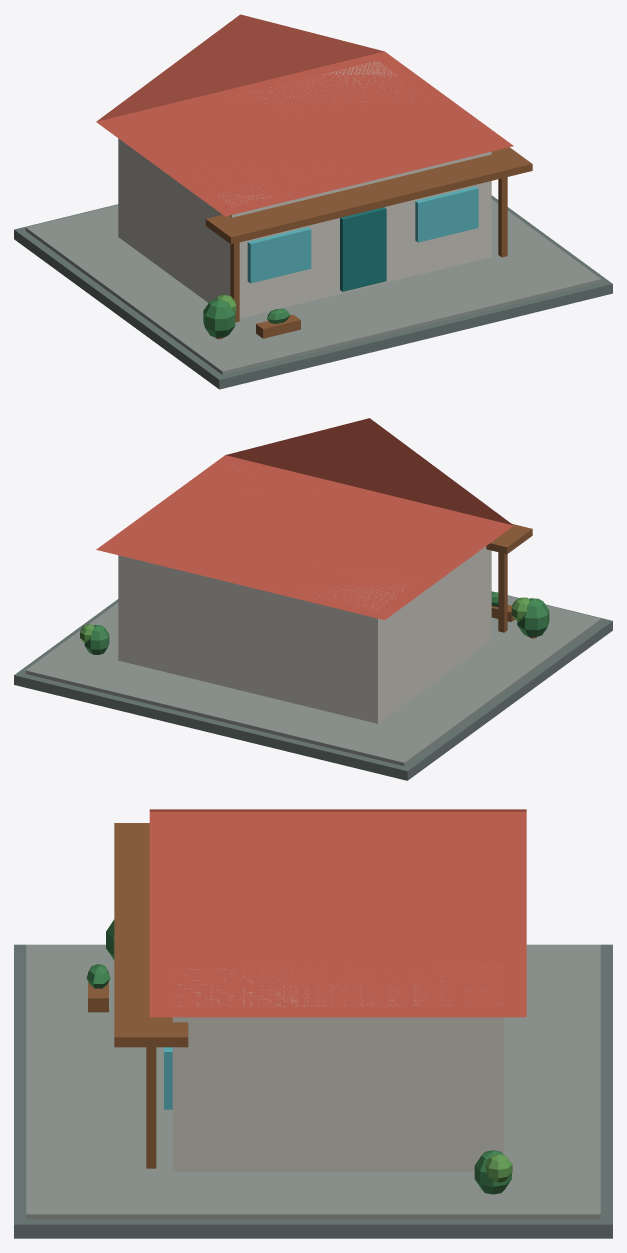
File: house_lv1.glb
3 renders of one model, top to bottom at view 1: azimuth 30°, elevation 25°; view 2: azimuth 150°, elevation 25°; view 3: azimuth 270°, elevation 25°, orthographic. The views are drawn at different scales.
Parts seen in each view (by area): view 1: rough, glossy; view 2: rough; view 3: rough.
Part boxes in pixels (bbox=[...]): rough: bbox=[14, 14, 612, 389]; glossy: bbox=[247, 186, 478, 283]; rough: bbox=[14, 418, 612, 780]; rough: bbox=[14, 809, 612, 1238].
Bounding box in the file's own units: 9.4 × 4.53 × 8.5.
